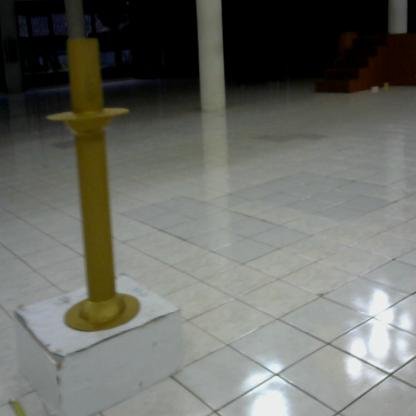pole: (45, 26, 152, 339)
